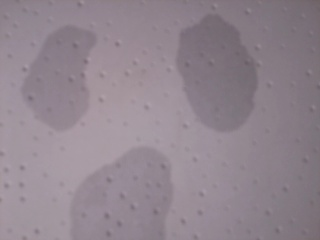Water_detected: (75, 155, 159, 240), (177, 43, 238, 115), (25, 45, 79, 121)
